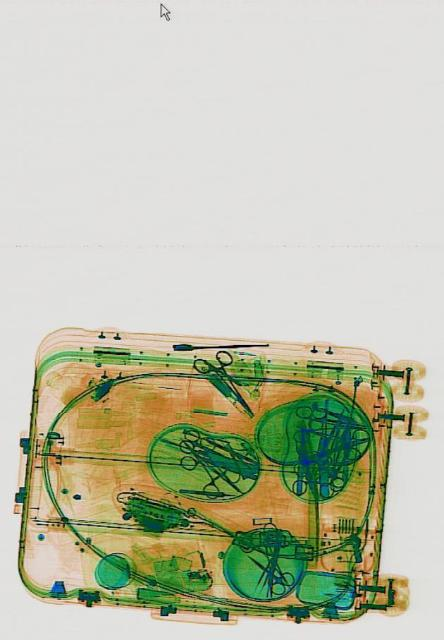Scissors: (190, 332, 262, 432), (167, 417, 239, 509), (240, 542, 293, 600), (291, 405, 362, 445)
